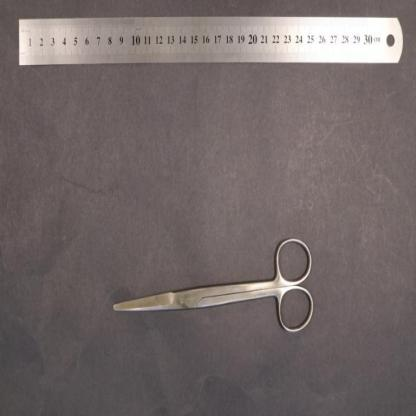Curved Mayo Scissors: (113, 236, 315, 335)
